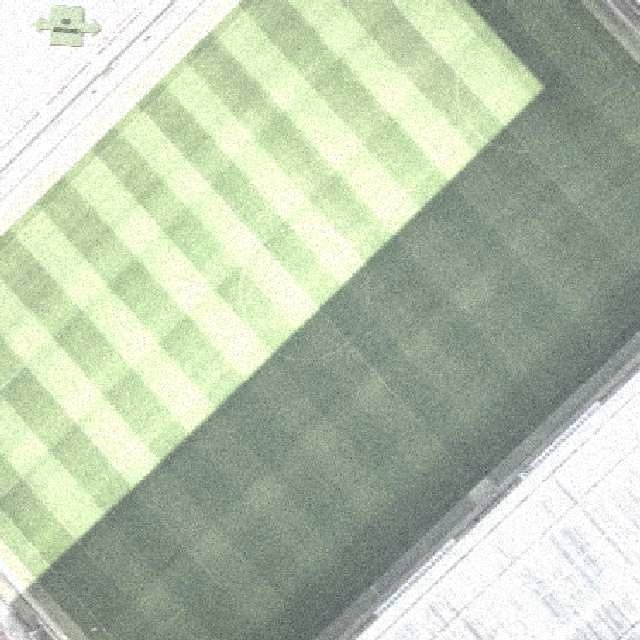GO_AROUND: (32, 3, 102, 46)
